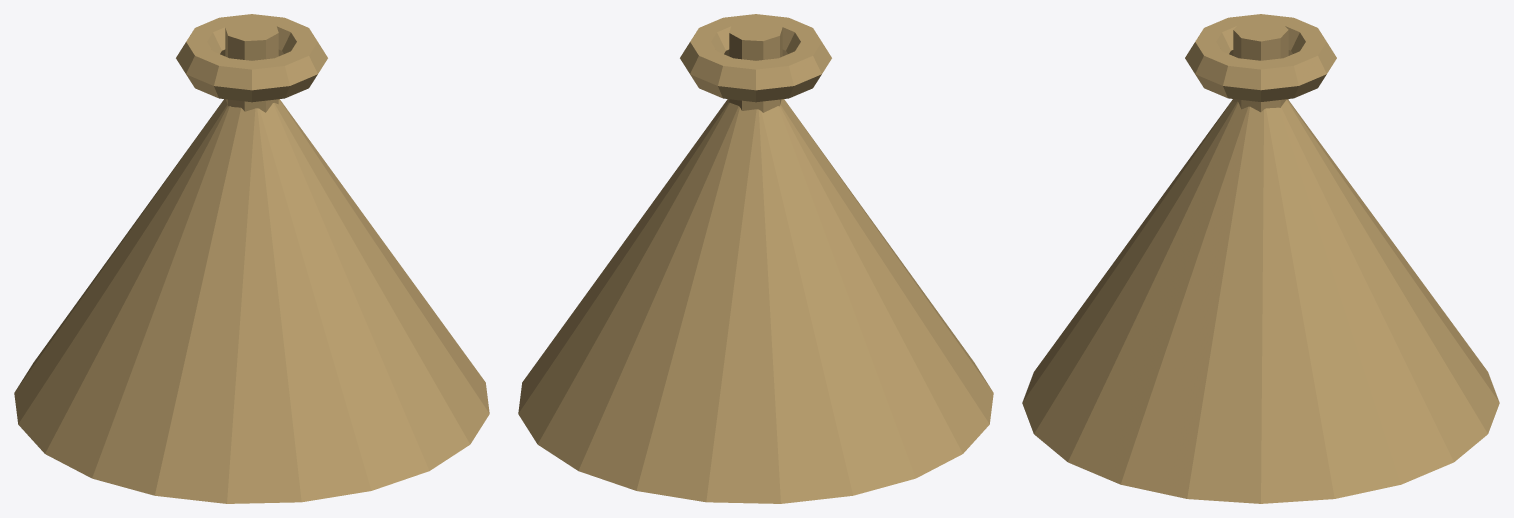
The model's file is bell.glb.
The picture shows the model from 3 angles, left to right: view 1: azimuth 30°, elevation 25°; view 2: azimuth 150°, elevation 25°; view 3: azimuth 270°, elevation 25°; orthographic projection.
Visible parts, largest first — view 1: bell; view 2: bell; view 3: bell.
Part boxes in pixels (x1=…): bell: x1=14, y1=14, x2=489, y2=503; bell: x1=518, y1=14, x2=993, y2=503; bell: x1=1022, y1=14, x2=1499, y2=503.
Size of the model in its own units: 0.069 by 0.0595 by 0.069.
